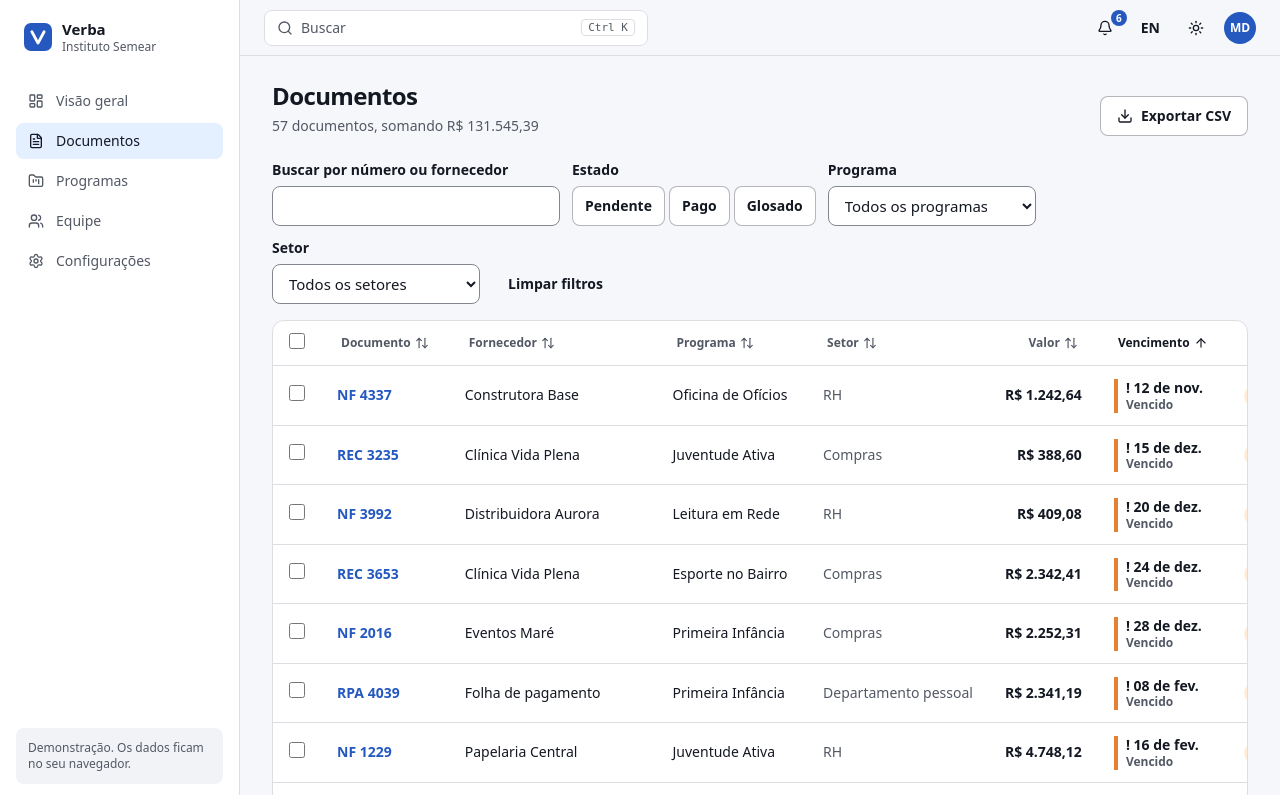
Test: documents › will not reject without a reason
Click the checkbox named "Selecionar NF 4337".
click(297, 393)  # box x1=289 y1=385 x2=305 y2=401
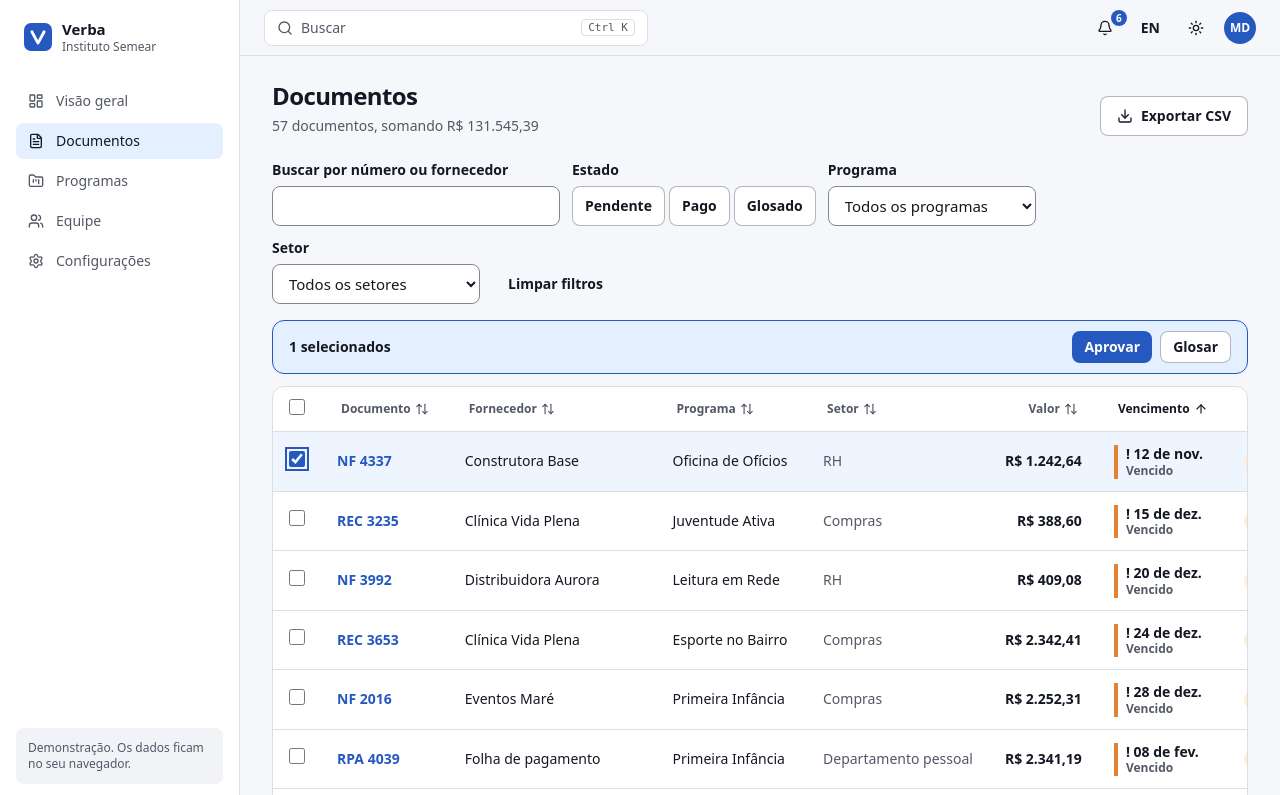
Click the button "Glosar".
click(1196, 347)  # box x1=1160 y1=331 x2=1231 y2=363
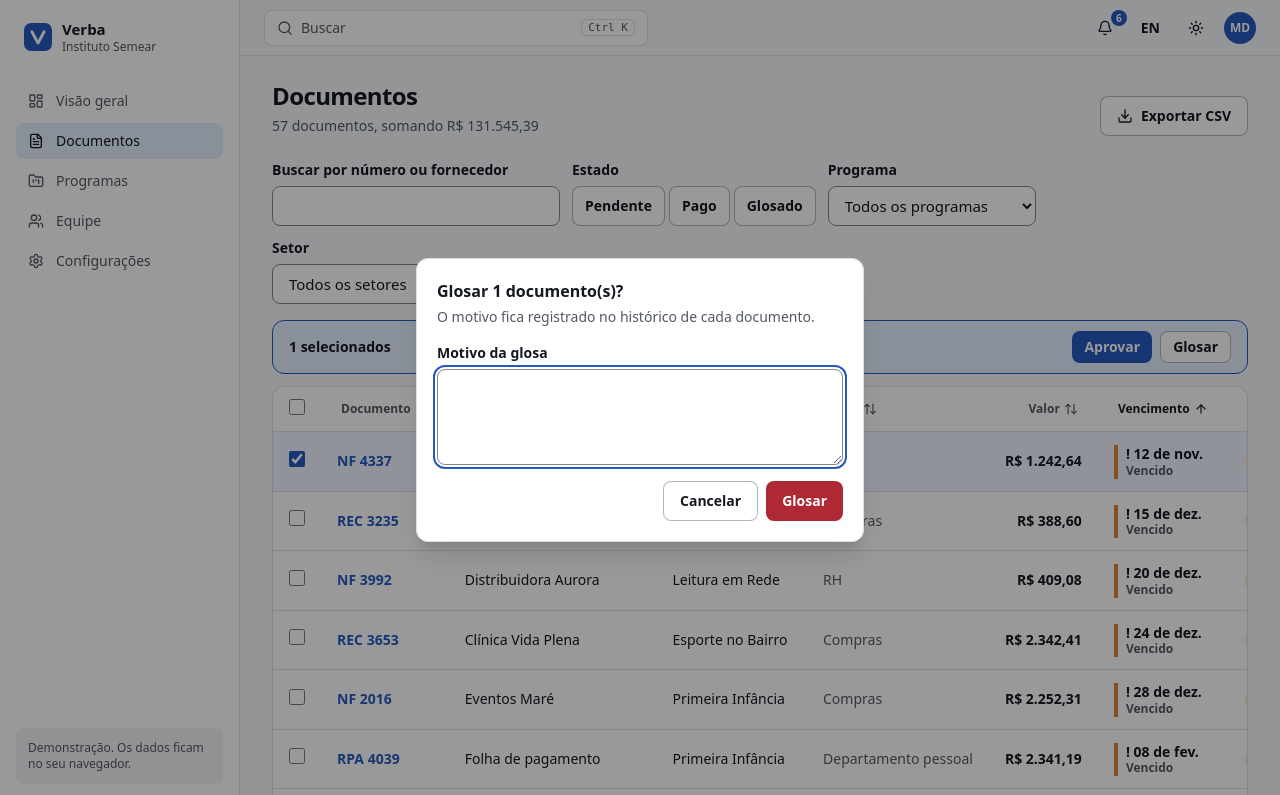
Click the button "Glosar".
click(805, 501)  # box x1=766 y1=481 x2=843 y2=521
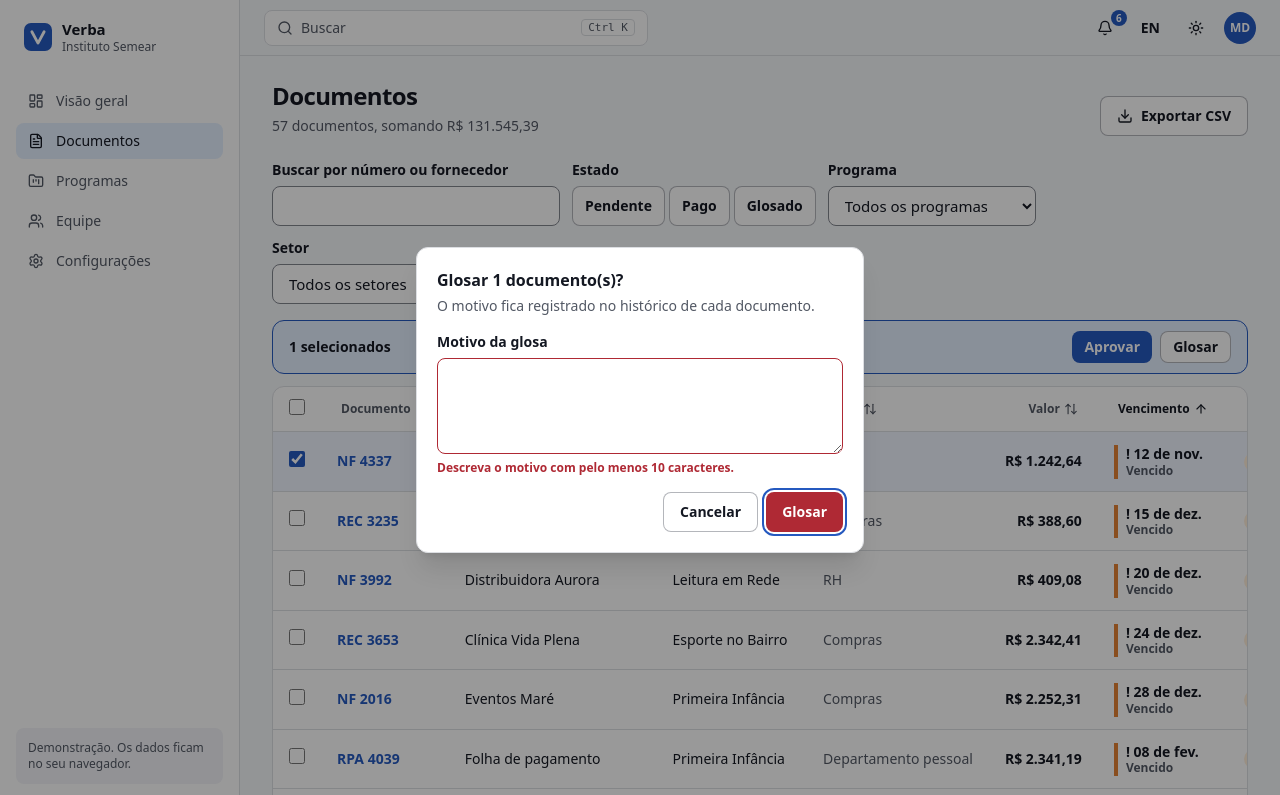
Type "Nota fiscal sem o CNPJ do fornecedor." into the text box labelled "Motivo da glosa".
click(640, 406); type("Nota fiscal sem o CNPJ do fornecedor.")  # box x1=437 y1=358 x2=843 y2=454
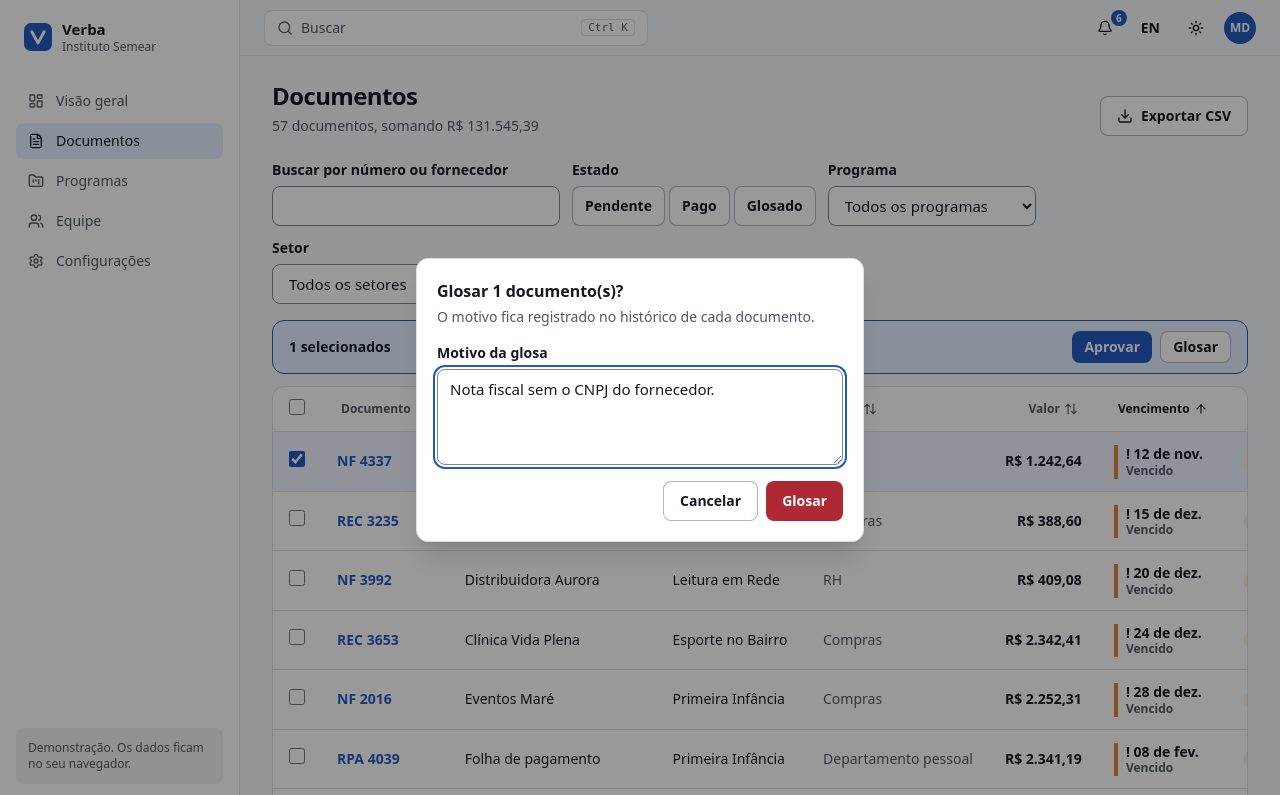
Click the button "Glosar".
click(805, 501)  # box x1=766 y1=481 x2=843 y2=521
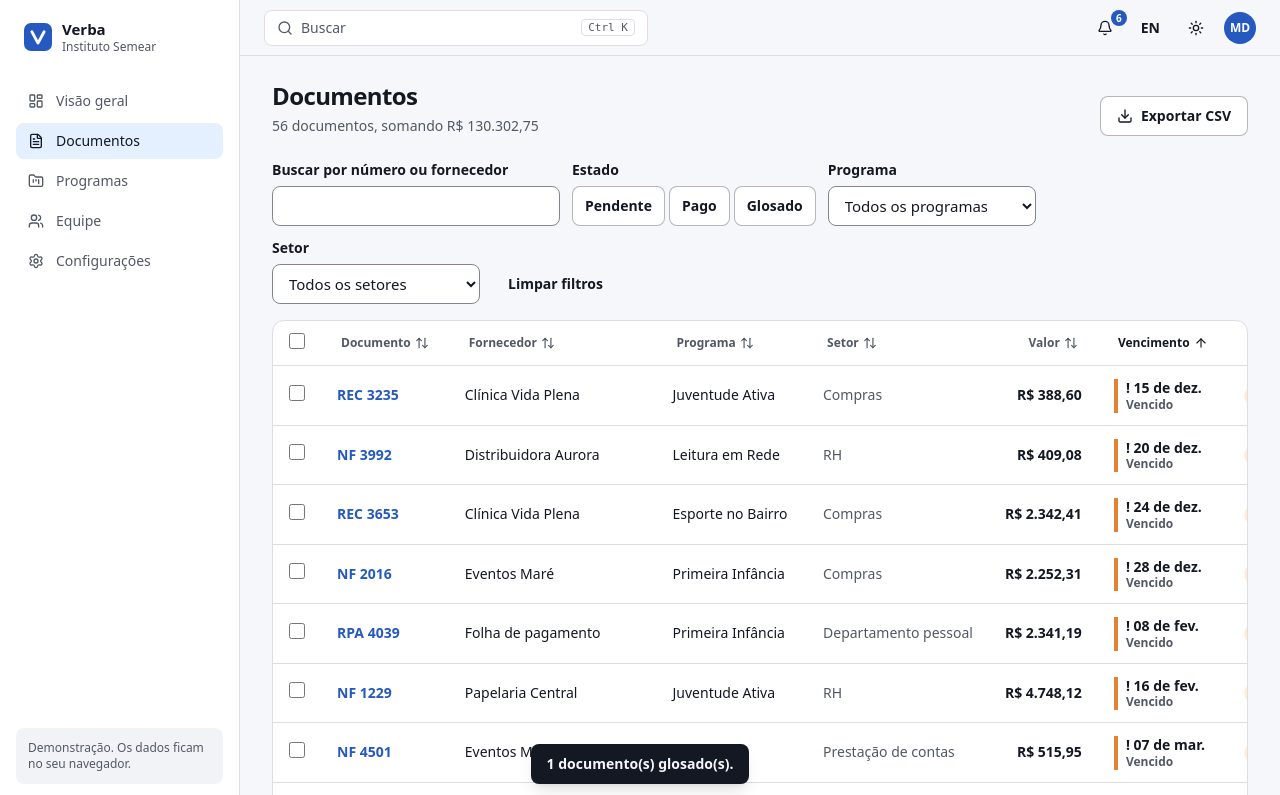
Expected: the text "1 documento(s) glosado(s)." is shown, x1=531 y1=744 x2=749 y2=784
